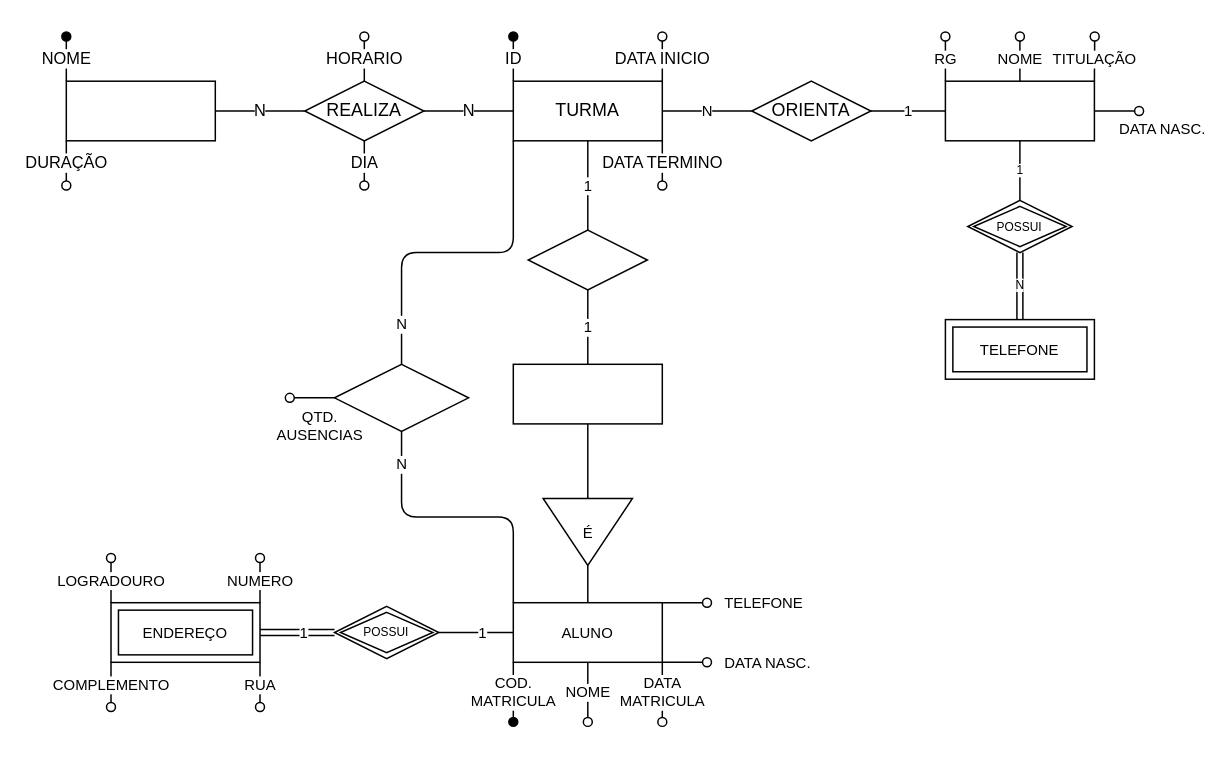
Image size: 1232x760. Some labels were removed from this diagram. The box of each missing label's shape, as (x1, y1, x2, y2) in pixels:
ATIVIDADE: (65, 80, 215, 141)
INSTRUTOR: (944, 80, 1094, 141)
MATRICULA-SE: (333, 363, 469, 431)
MONITOR: (512, 363, 662, 424)
MONITORA: (527, 229, 647, 290)
